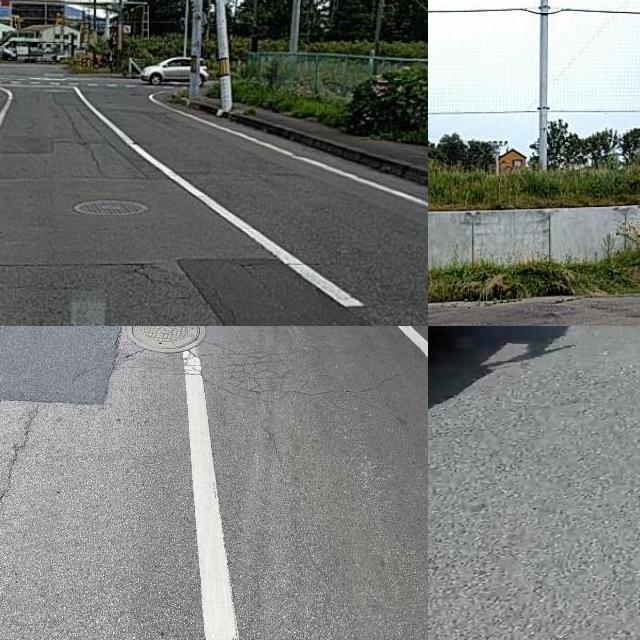Memanjang: (0, 406, 53, 534)
Sambungan: (178, 258, 371, 326), (0, 326, 121, 404)
